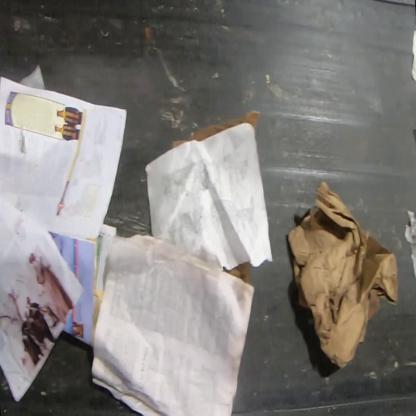cardboard: (286, 181, 400, 370), (191, 112, 263, 151), (224, 262, 250, 284)
